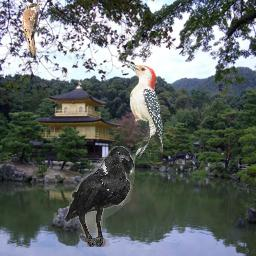Crow: (65, 146, 135, 247)
Cuckoo: (22, 3, 42, 58)
Woodpecker: (123, 61, 163, 161)
